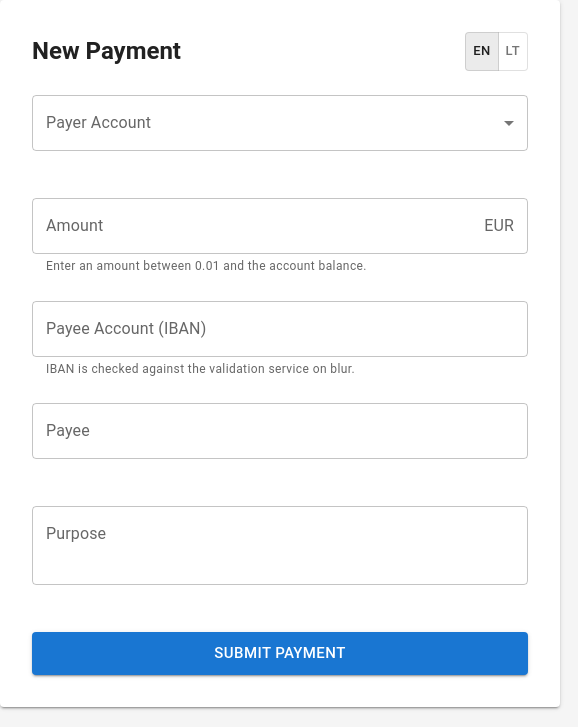
Test: PaymentForm › renders all fields and lists payer accounts
Check: the field labelled "Amount" is shown, box [32,198,476,254]
Check: the field labelled "Payee Account (IBAN)" is shown, box [32,301,528,357]
Click the dropdown named "Payer Account" at (280, 123), box [32,95,528,151]
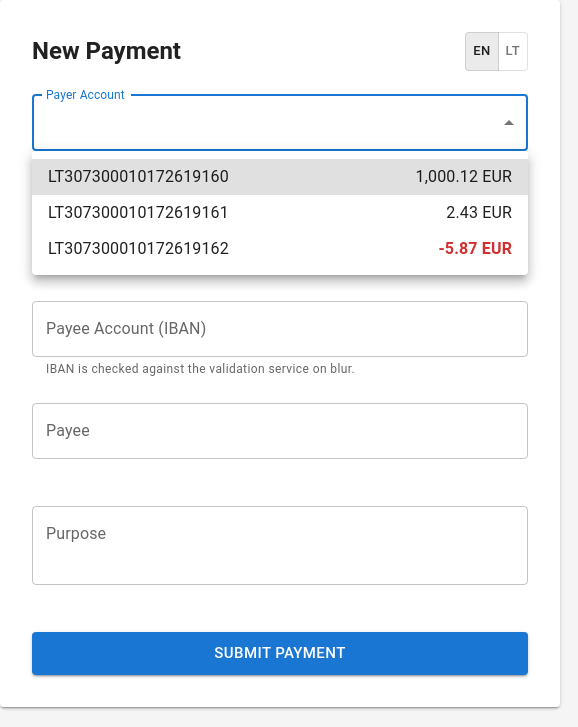
Check: the option "LT307300010172619160 1,000.12 EUR" is shown, box [32,159,528,195]
Check: the option "LT307300010172619161 2.43 EUR" is shown, box [48,203,512,222]
Check: the option "LT307300010172619162 -5.87 EUR" is shown, box [48,239,512,258]
